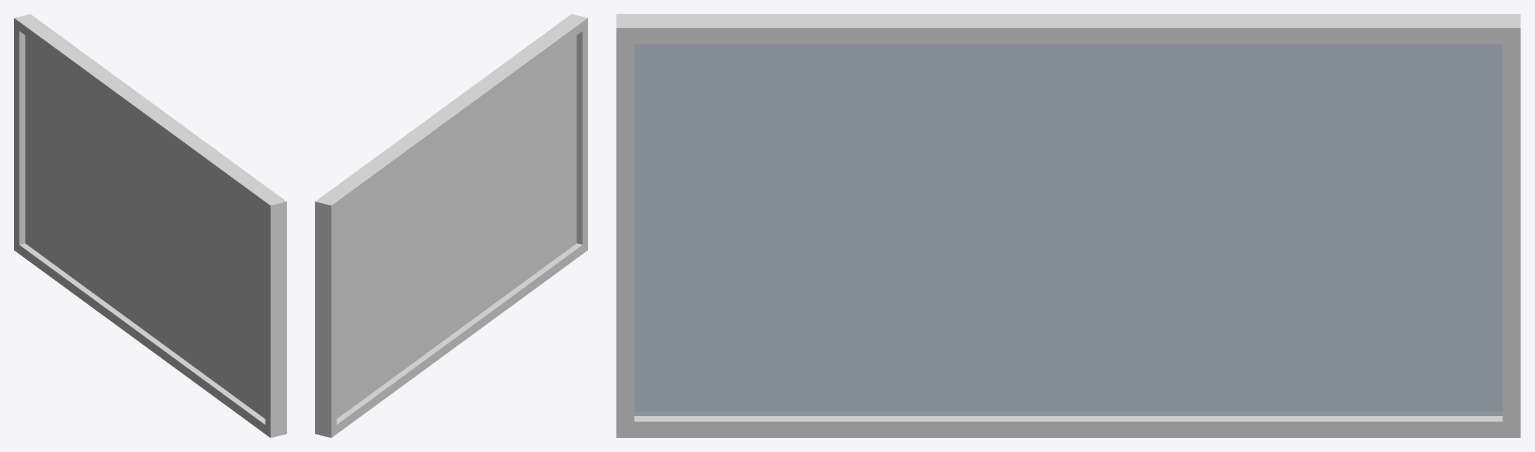
Rendered from OneWay.fbx.
3 views of the same model, side by side, from view 1: azimuth 30°, elevation 25°; view 2: azimuth 150°, elevation 25°; view 3: azimuth 270°, elevation 25° (orthographic). The views are drawn at different scales.
Visible parts, largest first — view 1: Cube; view 2: Cube; view 3: Cube.
Part boxes in pixels (<box>): Cube: <box>14,14,286,437</box>; Cube: <box>315,14,587,437</box>; Cube: <box>616,14,1520,437</box>.
Size of the model in its own units: 14.73 by 200 by 400.
